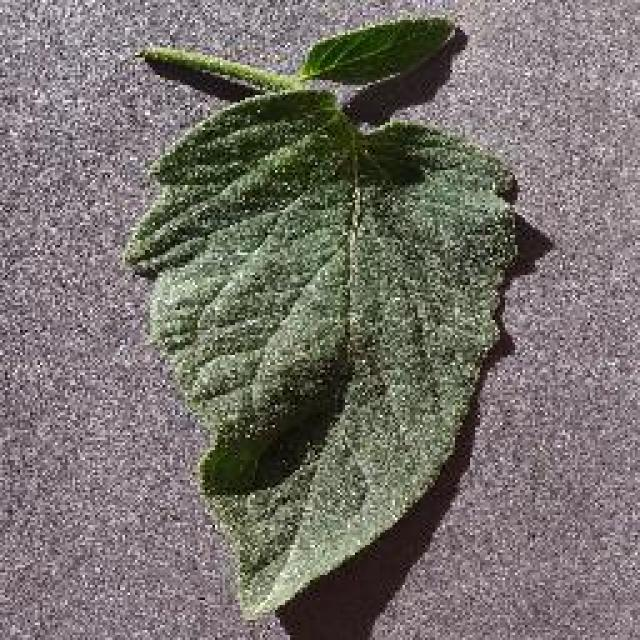Tomato___healthy: (119, 12, 520, 622)
